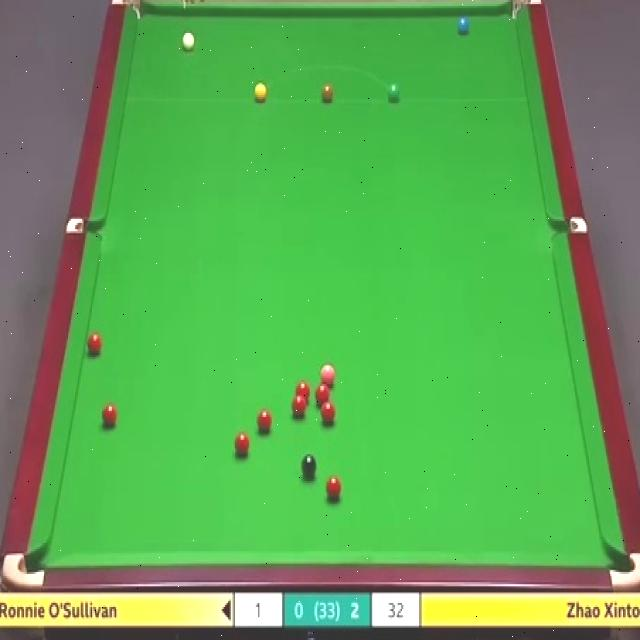black-ball: (301, 452, 319, 482)
blue-ball: (456, 12, 472, 38)
brown-ball: (320, 84, 334, 105)
green-ball: (387, 83, 401, 105)
pink-ball: (317, 362, 336, 387)
red-ball: (101, 402, 118, 430), (326, 476, 344, 502), (235, 431, 250, 457), (257, 408, 272, 434), (291, 395, 307, 419), (321, 400, 336, 424), (86, 332, 101, 356), (294, 381, 311, 402), (314, 384, 330, 404)
white-ball: (179, 28, 196, 54)
yellow-ball: (254, 82, 268, 103)
